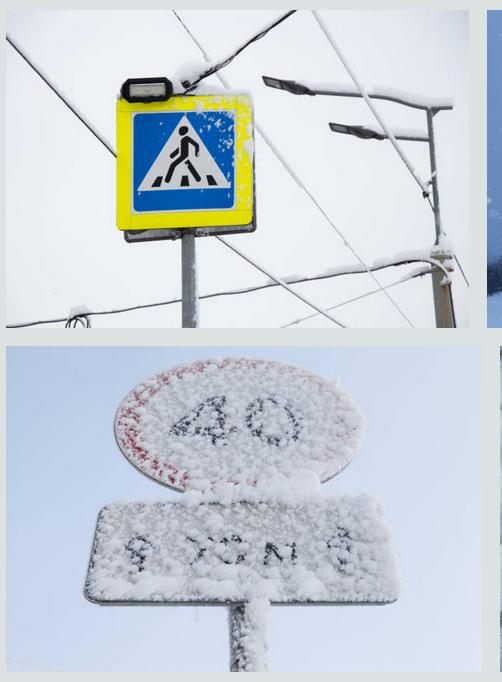obstructed_road_sign: (113, 356, 368, 493), (84, 498, 394, 604)
road_sign: (113, 92, 255, 230)
